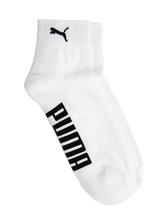sock: (21, 15, 148, 210)
